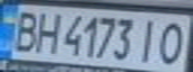1: (78, 12, 100, 59)
3: (112, 15, 139, 62)
4: (60, 11, 84, 56)
7: (97, 13, 118, 60)
B: (6, 7, 42, 53)
H: (30, 8, 63, 54)
I: (133, 16, 163, 64)
O: (151, 18, 193, 68)
